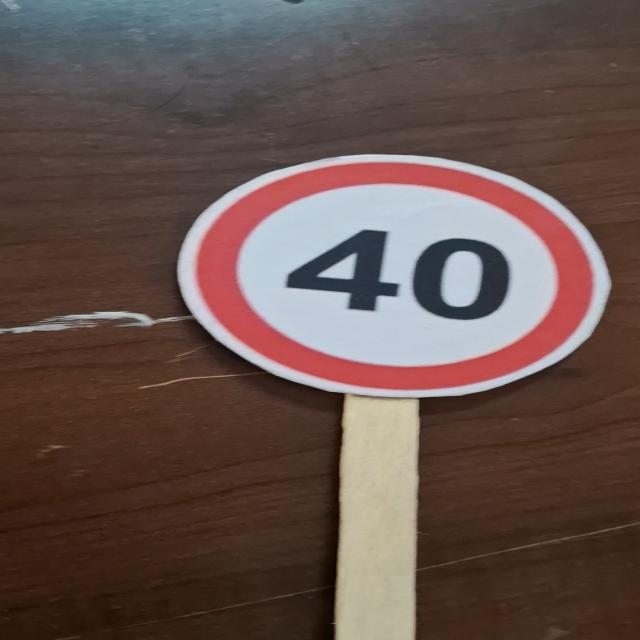Speed40: (164, 149, 618, 403)
